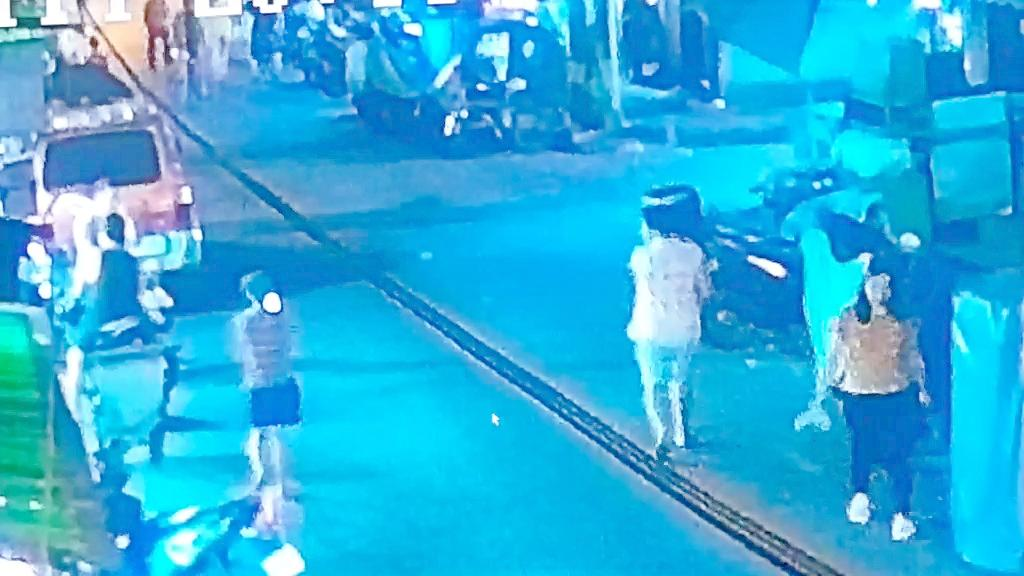Car: (46, 100, 215, 296)
Motor: (623, 155, 848, 337), (348, 3, 530, 149)
